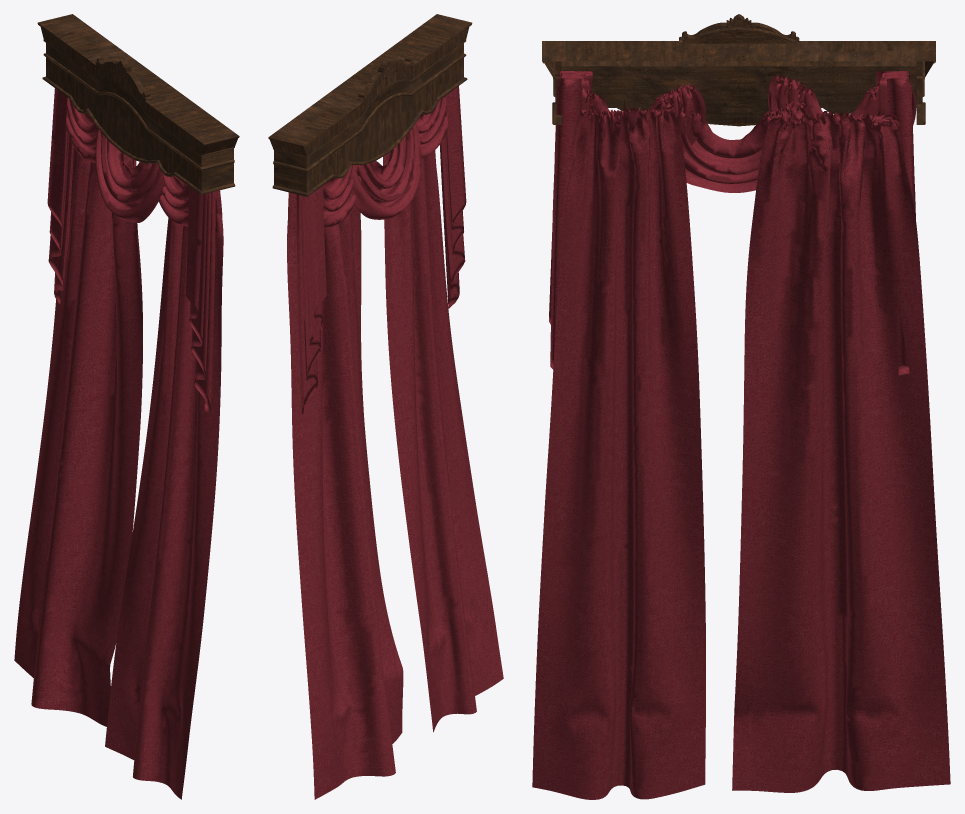
Rendered from SM_Curtain_2.fbx.
3 views of the same model, side by side, from view 1: azimuth 30°, elevation 25°; view 2: azimuth 150°, elevation 25°; view 3: azimuth 270°, elevation 25° (orthographic). The views are drawn at different scales.
Visible parts, largest first — view 1: SM_Curtain_2; view 2: SM_Curtain_2; view 3: SM_Curtain_2.
Boxes of the visible parts, box(x1,y1,x2,y2) form: SM_Curtain_2: box(14, 14, 239, 799); SM_Curtain_2: box(268, 14, 503, 799); SM_Curtain_2: box(532, 14, 950, 799).
Bounding box in the file's own units: 55.4 × 194 × 407.
4 materials, 4 textured.
